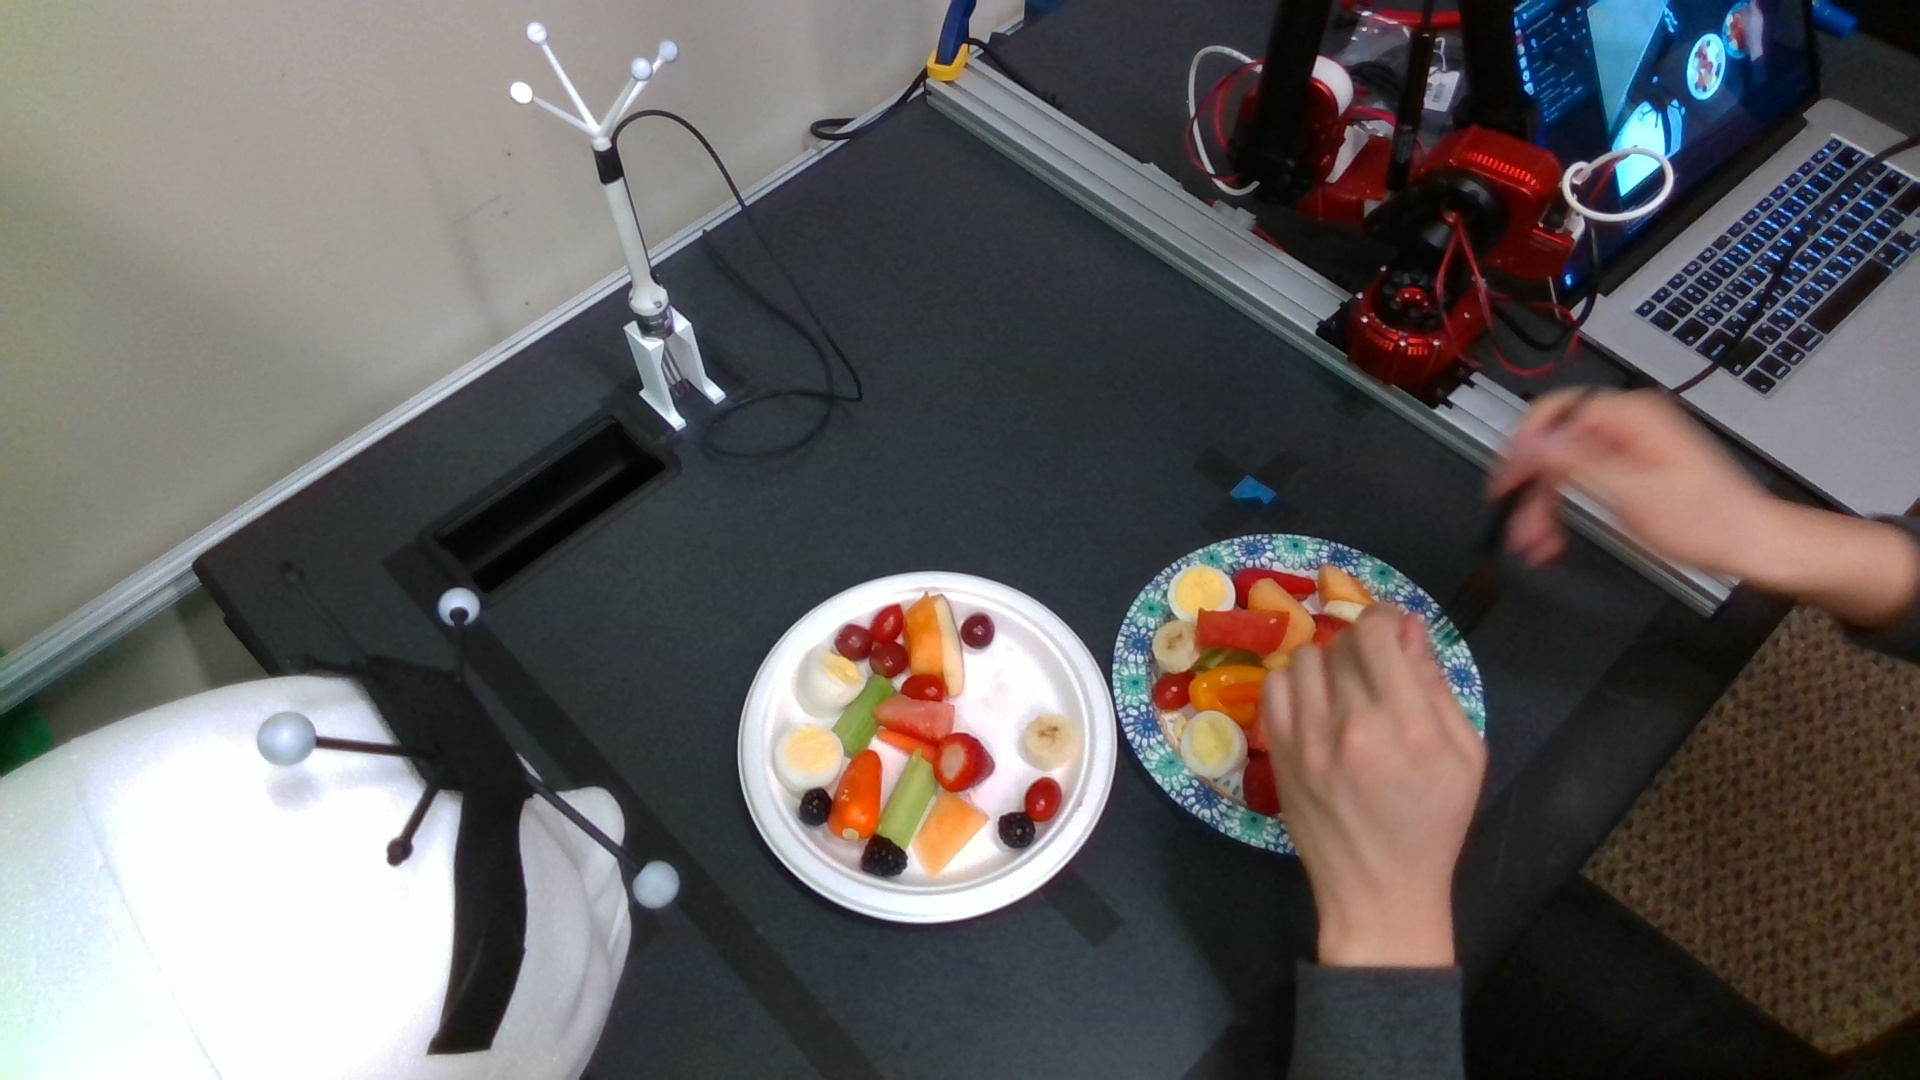banana: (1023, 713, 1076, 767), (1153, 621, 1203, 673)
bell pepper: (1189, 663, 1269, 717), (835, 750, 880, 841)
blackberry: (861, 835, 909, 876), (998, 814, 1036, 847), (800, 789, 832, 824)
cantalope: (914, 793, 992, 881), (902, 592, 944, 678), (1319, 566, 1375, 607)
carrot: (874, 731, 939, 764)
celery: (876, 756, 936, 851)
cherry tomato: (1147, 671, 1197, 711), (1023, 777, 1062, 822), (901, 673, 949, 702), (872, 603, 903, 641)
egg: (796, 646, 862, 717), (778, 723, 849, 789), (1182, 709, 1247, 779), (1168, 566, 1238, 622)
grape: (833, 624, 874, 662), (960, 612, 996, 646), (869, 646, 909, 676)
melon: (1193, 607, 1286, 655), (872, 694, 955, 741)
plate: (742, 574, 1120, 919), (1112, 534, 1491, 855)
strawberry: (934, 733, 996, 795)
